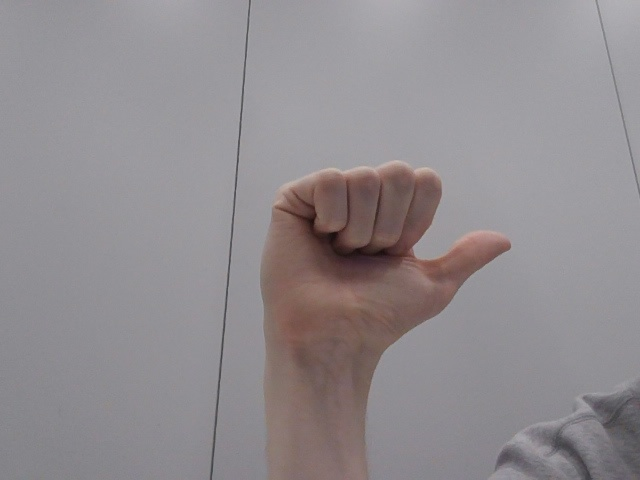left: (247, 152, 520, 381)
